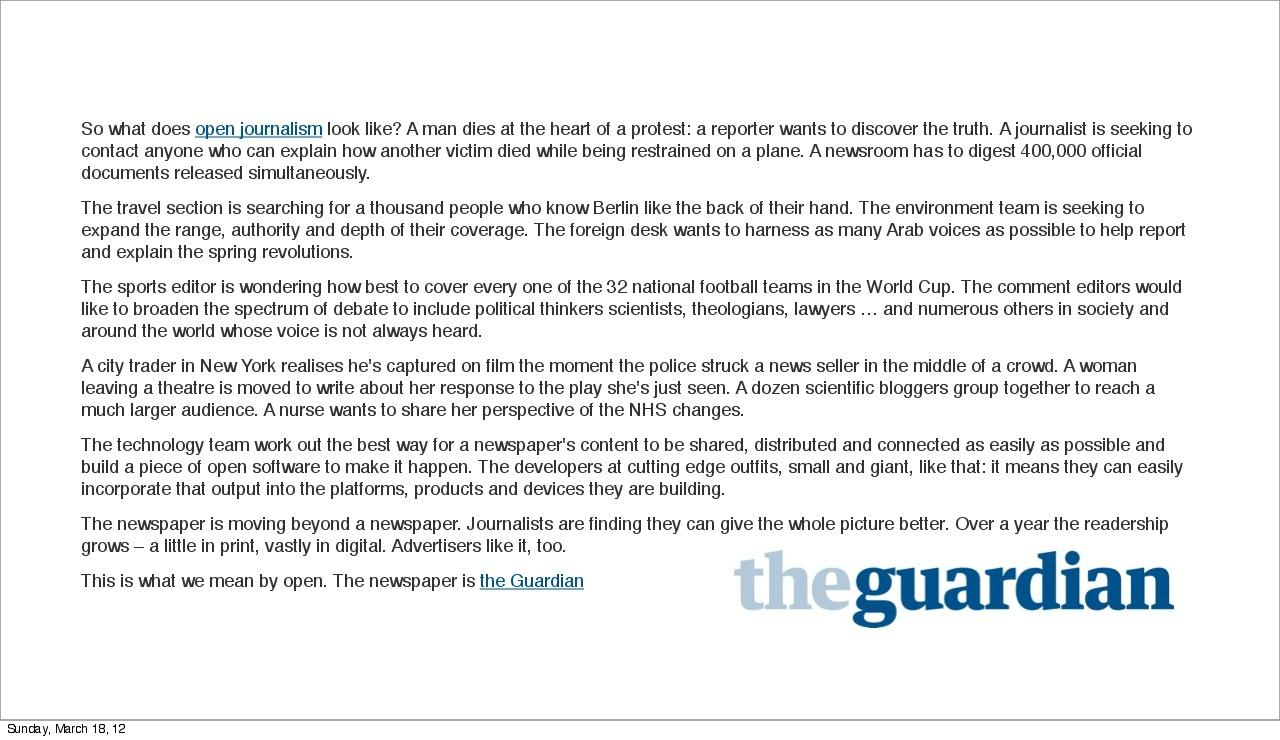paragraph: (73, 68, 1235, 686)
